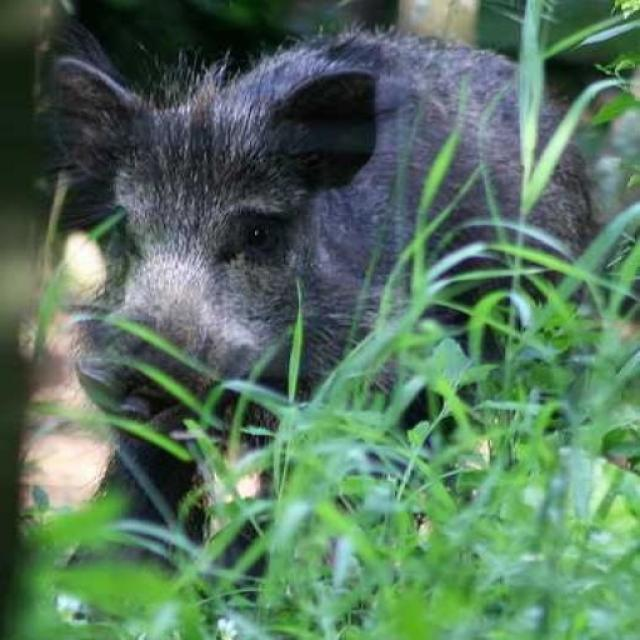pig: (61, 50, 601, 516)
